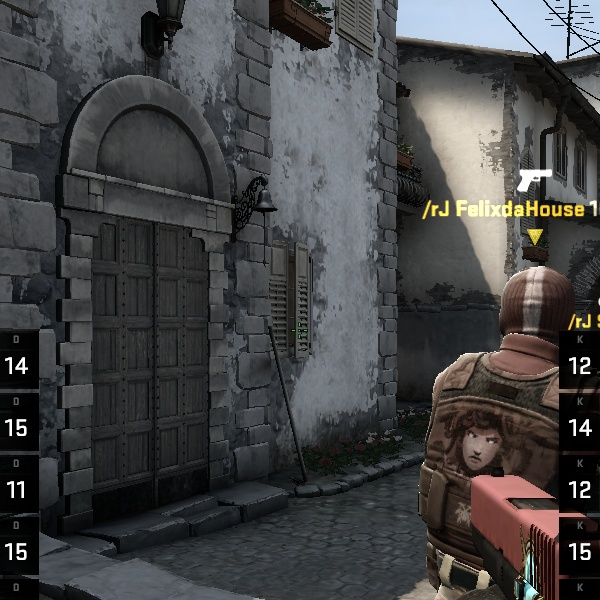t_body: (401, 234, 588, 588)
